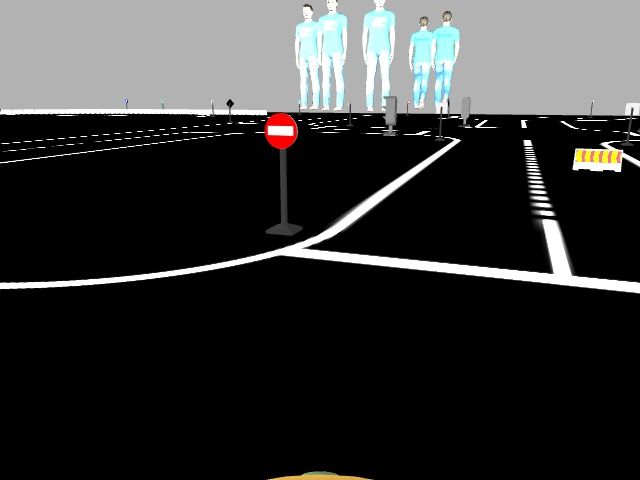ClosedRoadStand: (574, 149, 620, 170)
NoEntry: (265, 114, 294, 146)
